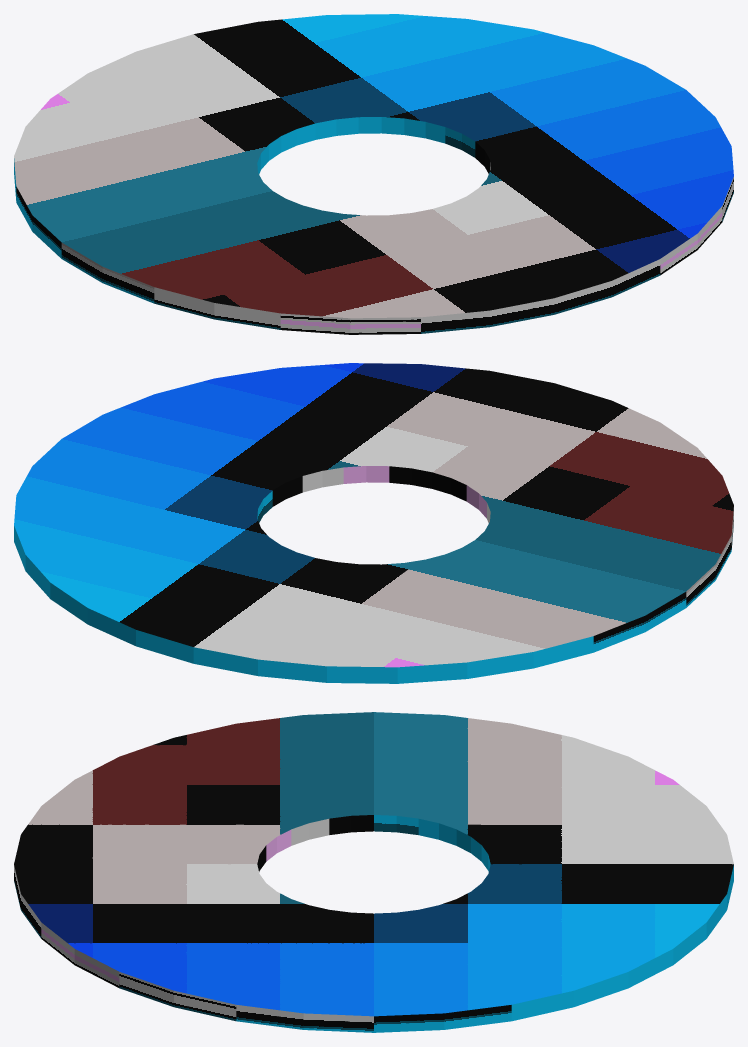
File: CompactDisc2.glb
3 renders of one model, top to bottom at view 1: azimuth 30°, elevation 25°; view 2: azimuth 150°, elevation 25°; view 3: azimuth 270°, elevation 25°, orthographic.
Visible parts, largest first — view 1: Cylinder; view 2: Cylinder; view 3: Cylinder.
Part boxes in pixels (bbox=[...]): Cylinder: bbox=[14, 14, 733, 334]; Cylinder: bbox=[14, 363, 733, 683]; Cylinder: bbox=[14, 712, 733, 1032].
Size of the model in its own units: 2 by 0.0508 by 2.
Materials: 1 (1 with a texture image).
